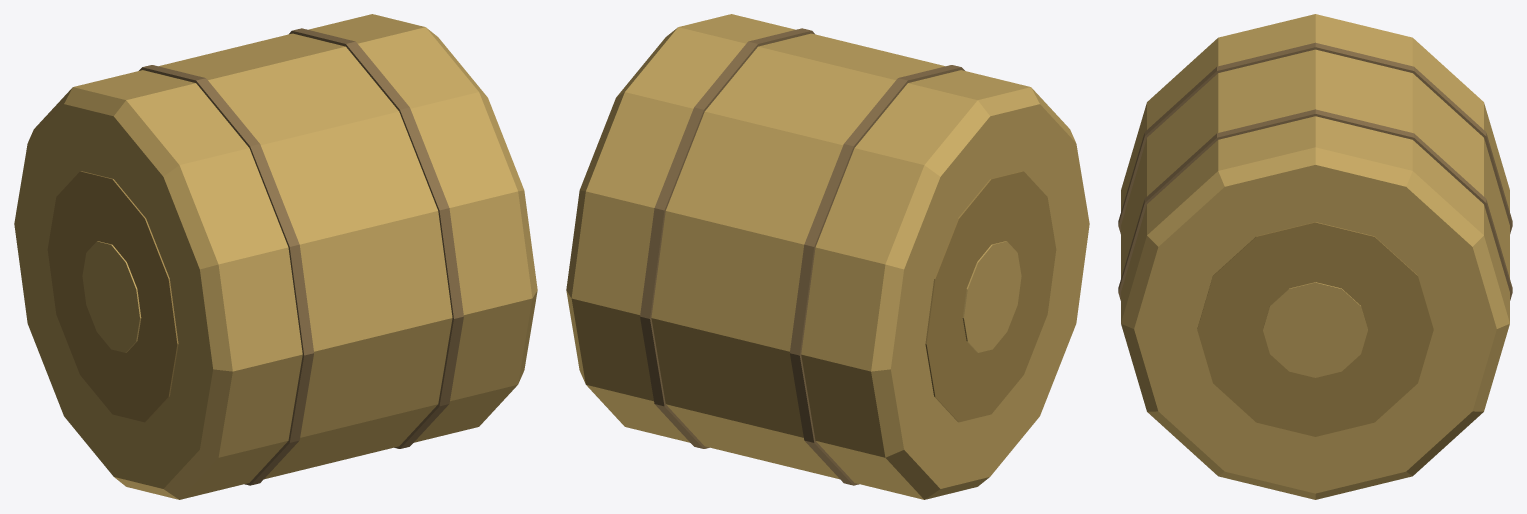
The model's file is botte_foin.glb.
3 views of the same model, side by side, from view 1: azimuth 30°, elevation 25°; view 2: azimuth 150°, elevation 25°; view 3: azimuth 270°, elevation 25° (orthographic). The views are drawn at different scales.
Parts seen in each view (by area): view 1: bale, core, twine, heart; view 2: bale, core, twine, heart; view 3: bale, core, heart, twine.
Boxes of the visible parts, box(x1,y1,x2,y2) form: bale: box(14, 14, 537, 499); core: box(47, 171, 178, 422); twine: box(139, 28, 463, 485); heart: box(82, 241, 141, 352); bale: box(566, 14, 1089, 499); core: box(925, 171, 1056, 422); twine: box(640, 28, 964, 485); heart: box(962, 241, 1021, 352); bale: box(1121, 14, 1509, 499); core: box(1197, 222, 1433, 436); heart: box(1263, 282, 1367, 377); twine: box(1118, 42, 1512, 300).
Bounding box in the file's own units: 1.32 × 1.5 × 1.5.
3 materials, 3 textured.
